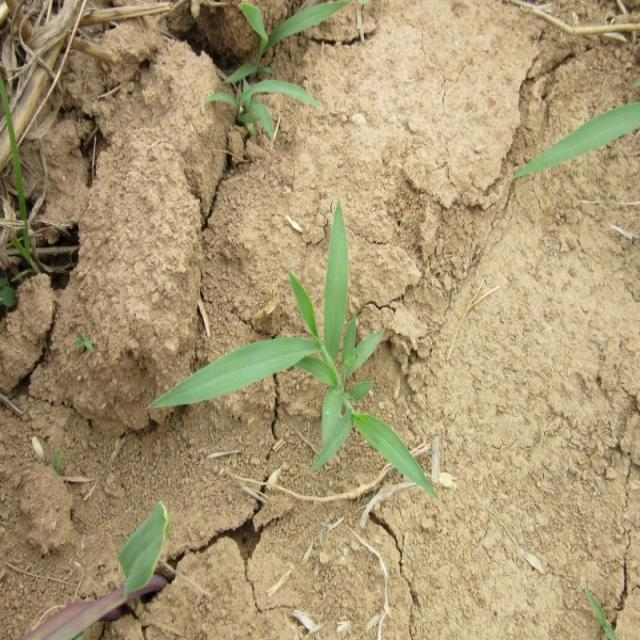bg: (141, 195, 441, 506)
